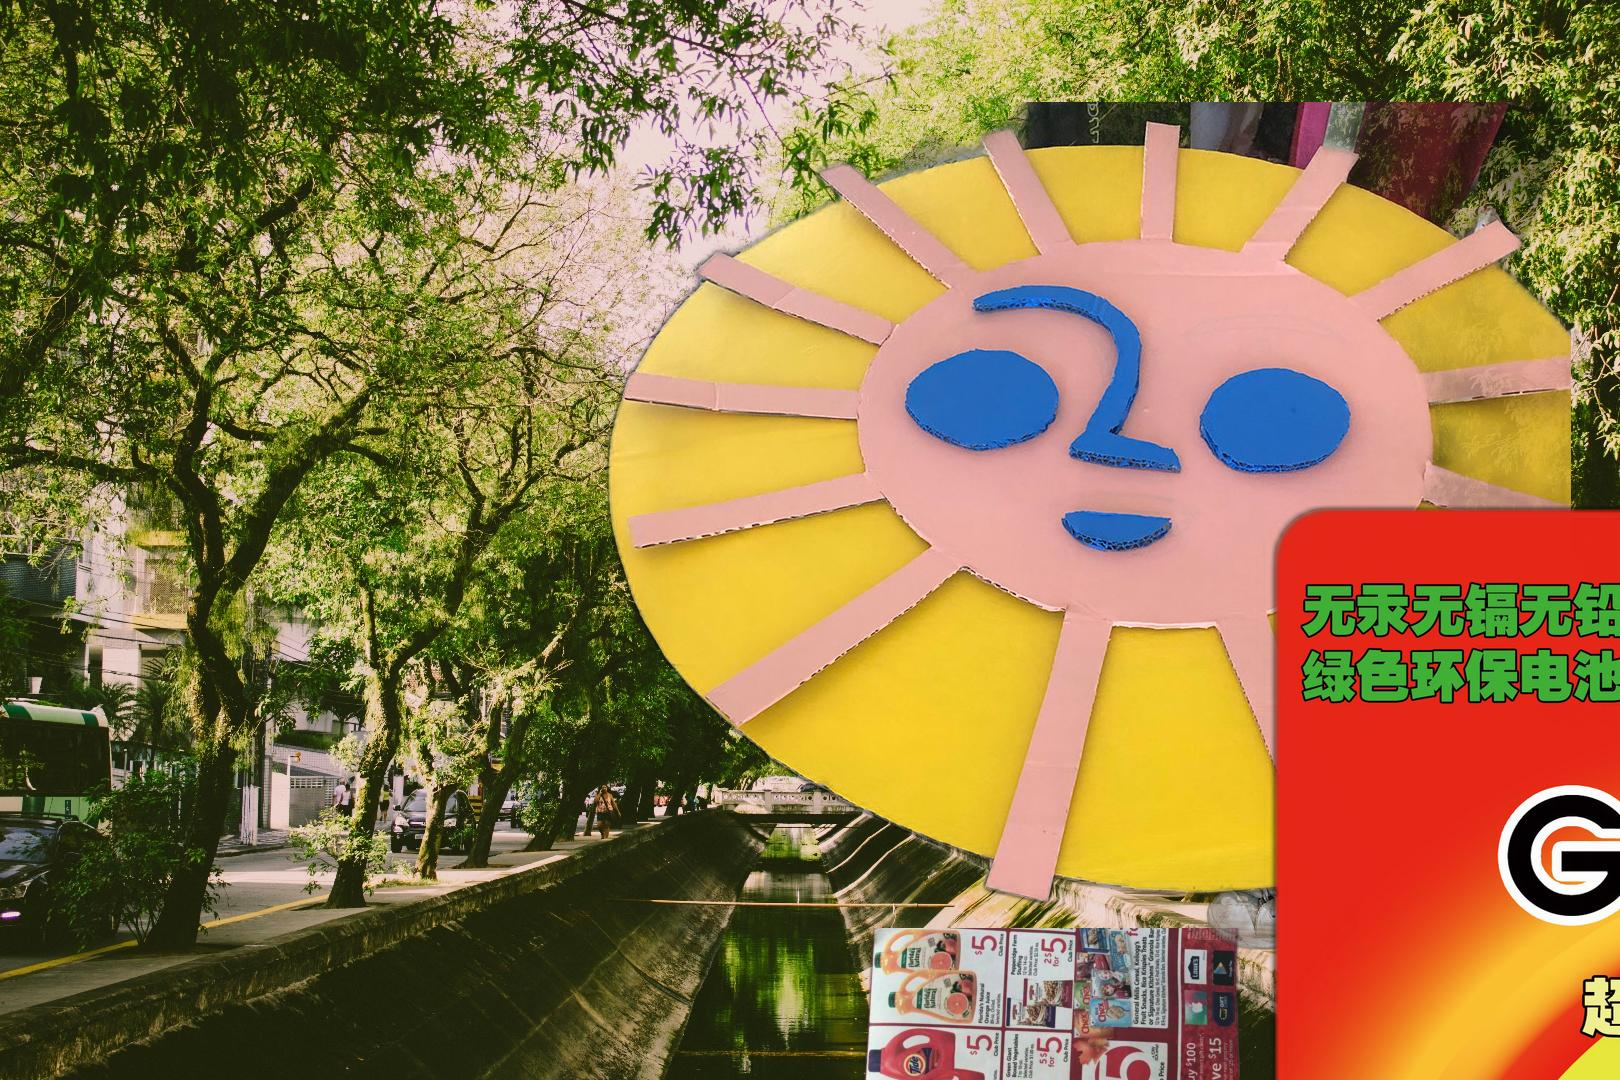battery: (891, 490, 1620, 1080)
paper: (816, 928, 1244, 1080)
shoes: (1159, 770, 1429, 953)
trashbox-cardboard: (599, 102, 1571, 923)
